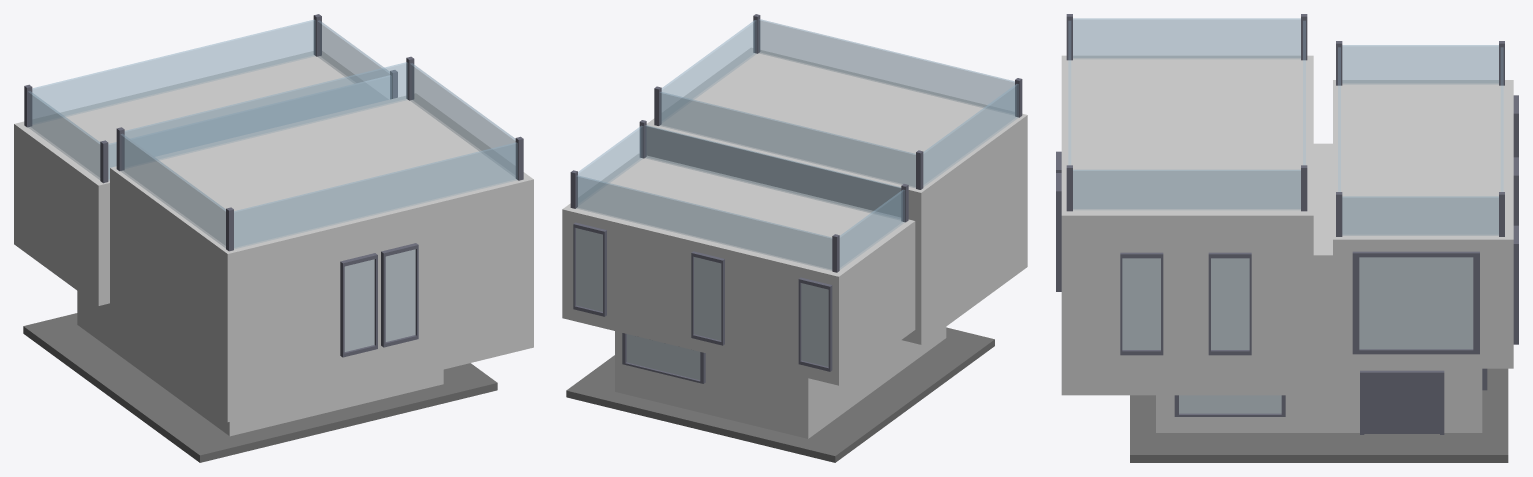
3 renders of one model, left to right at view 1: azimuth 30°, elevation 25°; view 2: azimuth 150°, elevation 25°; view 3: azimuth 270°, elevation 25°, orthographic. The views are drawn at different scales.
Visible parts, largest first — view 1: house02; view 2: house02; view 3: house02.
Boxes of the visible parts, <box> form: house02: <box>14,14,533,462</box>; house02: <box>562,14,1027,462</box>; house02: <box>1056,14,1518,462</box>.
Size of the model in its own units: 4.75 by 3.99 by 5.71.
